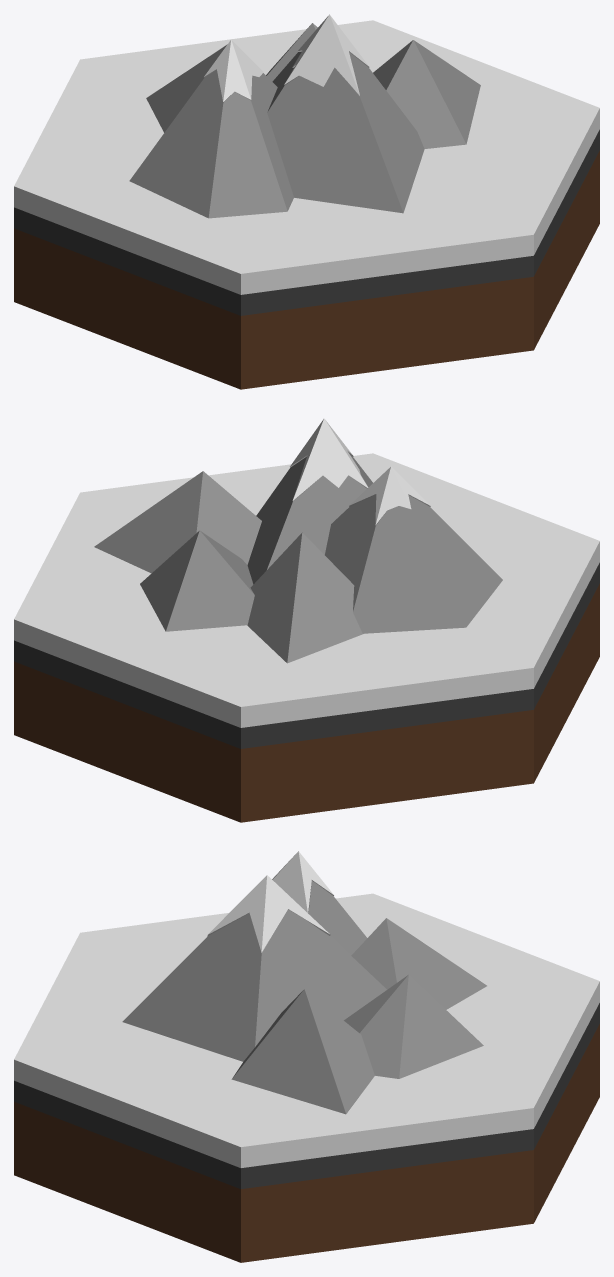
The model's file is Hexagono_montanha_fria.glb.
3 views of the same model, one above another, from view 1: azimuth 30°, elevation 25°; view 2: azimuth 150°, elevation 25°; view 3: azimuth 270°, elevation 25° (orthographic).
Visible parts, largest first — view 1: base hex_0, mt a_1, mt b_4, mt.002_3, mt a snow cap_6, mt.004_5, mt b snow cap_7, mt.001_2; view 2: base hex_0, mt b_4, mt.004_5, mt.002_3, mt.001_2, mt a_1, mt a snow cap_6, mt b snow cap_7; view 3: base hex_0, mt a_1, mt.002_3, mt.001_2, mt.004_5, mt a snow cap_6, mt b_4, mt b snow cap_7.
Boxes of the visible parts, left/top/right/bottom form: base hex_0: left=14, top=20, right=599, bottom=389; mt a_1: left=267, top=51, right=424, bottom=213; mt b_4: left=129, top=70, right=293, bottom=218; mt.002_3: left=373, top=40, right=480, bottom=148; mt a snow cap_6: left=284, top=14, right=369, bottom=95; mt.004_5: left=146, top=44, right=227, bottom=132; mt b snow cap_7: left=204, top=39, right=263, bottom=102; mt.001_2: left=266, top=23, right=317, bottom=81; base hex_0: left=14, top=453, right=599, bottom=822; mt b_4: left=325, top=494, right=502, bottom=633; mt.004_5: left=247, top=532, right=363, bottom=663; mt.002_3: left=94, top=471, right=261, bottom=573; mt.001_2: left=140, top=530, right=254, bottom=631; mt a_1: left=247, top=454, right=372, bottom=584; mt a snow cap_6: left=290, top=418, right=368, bottom=501; mt b snow cap_7: left=349, top=466, right=430, bottom=525; base hex_0: left=14, top=893, right=599, bottom=1262; mt a_1: left=122, top=909, right=386, bottom=1061; mt.002_3: left=231, top=989, right=374, bottom=1114; mt.001_2: left=344, top=974, right=483, bottom=1078; mt.004_5: left=351, top=918, right=486, bottom=1009; mt a snow cap_6: left=207, top=875, right=330, bottom=952; mt b_4: left=308, top=880, right=367, bottom=955; mt b snow cap_7: left=272, top=851, right=333, bottom=913.
Size of the model in its own units: 3.91 by 1.88 by 3.81.
